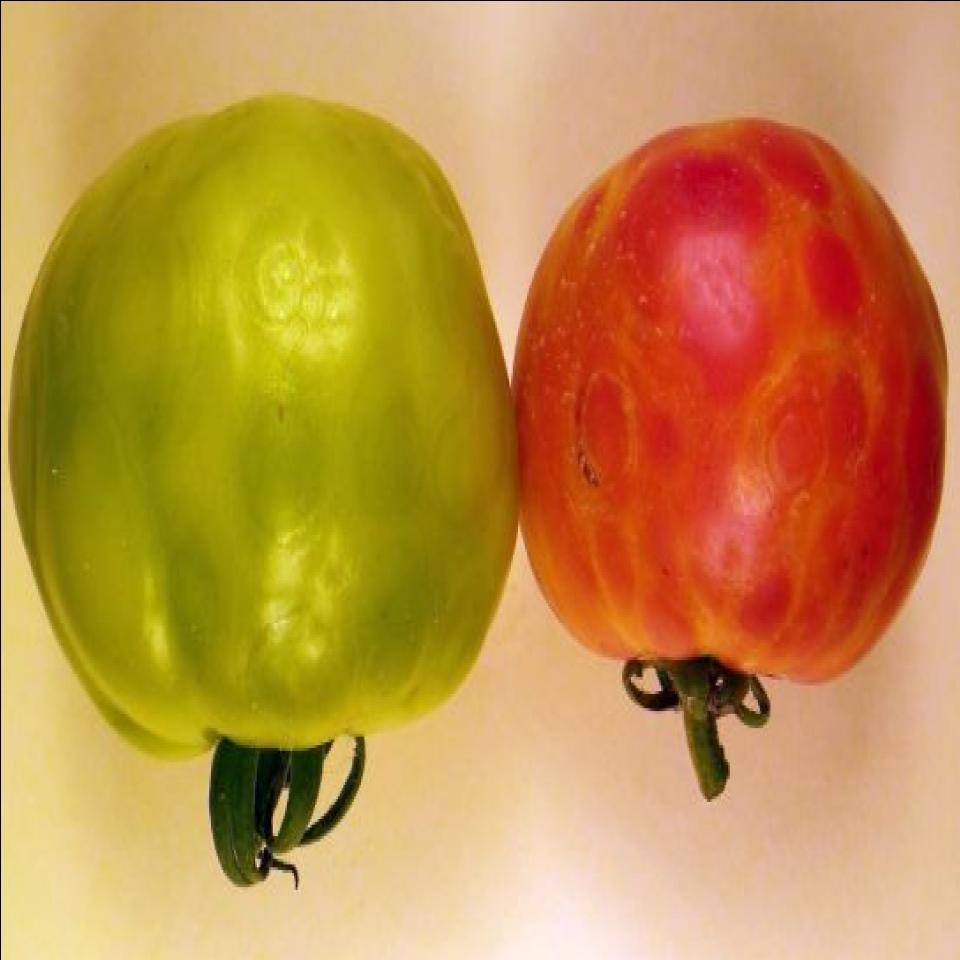Spotted wilt Virus: (5, 91, 517, 758), (514, 116, 948, 684)
